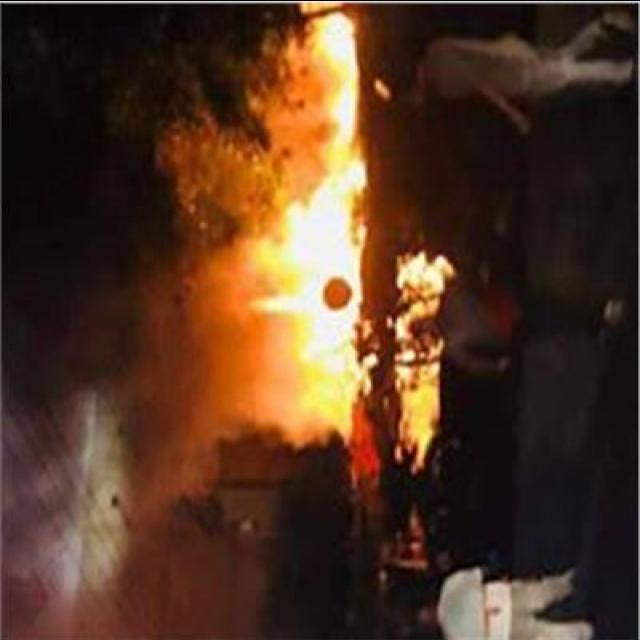Fire: (232, 0, 445, 469)
